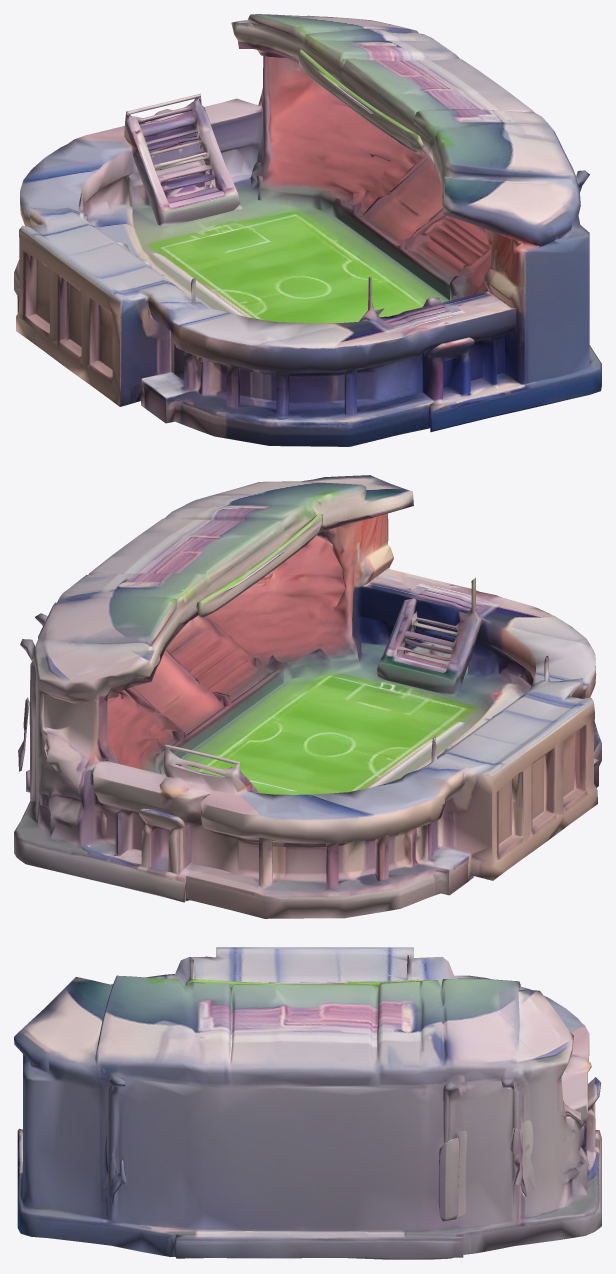
The model's file is sport.glb.
The picture shows the model from 3 angles, top to bottom: view 1: azimuth 30°, elevation 25°; view 2: azimuth 150°, elevation 25°; view 3: azimuth 270°, elevation 25°; orthographic projection. The views are drawn at different scales.
Visible parts, largest first — view 1: tripo_node_73e6603a-6a18-461a-bf95-3983898159f9; view 2: tripo_node_73e6603a-6a18-461a-bf95-3983898159f9; view 3: tripo_node_73e6603a-6a18-461a-bf95-3983898159f9.
Part boxes in pixels (x1,y1,x2,y2): tripo_node_73e6603a-6a18-461a-bf95-3983898159f9: [14, 14, 601, 446]; tripo_node_73e6603a-6a18-461a-bf95-3983898159f9: [14, 475, 601, 918]; tripo_node_73e6603a-6a18-461a-bf95-3983898159f9: [14, 947, 601, 1259].
Bounding box in the file's own units: 0.8422 × 0.4084 × 1.
1 material, 1 textured.
